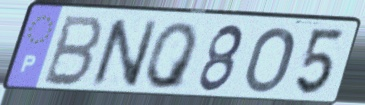5: (294, 25, 349, 99)
8: (197, 22, 245, 95)
B: (39, 13, 108, 90)
N: (88, 18, 162, 90)
O: (242, 25, 297, 95)
Q: (143, 21, 201, 92)
